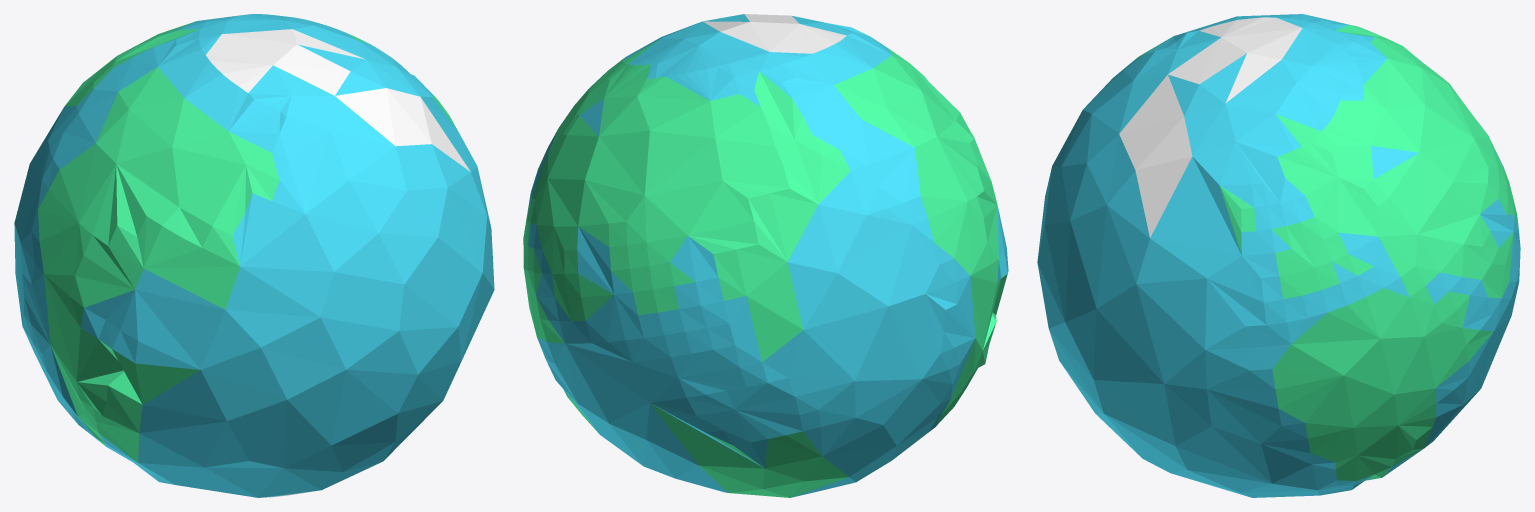
The model's file is Earth.glb.
The picture shows the model from 3 angles, left to right: view 1: azimuth 30°, elevation 25°; view 2: azimuth 150°, elevation 25°; view 3: azimuth 270°, elevation 25°; orthographic projection.
Visible parts, largest first — view 1: node-0; view 2: node-0; view 3: node-0.
Boxes of the visible parts, x1,y1,x2,y2 form: node-0: (14, 14, 494, 497); node-0: (523, 14, 1008, 497); node-0: (1037, 14, 1520, 497).
Bounding box in the file's own units: 228098 × 227532 × 228084.
